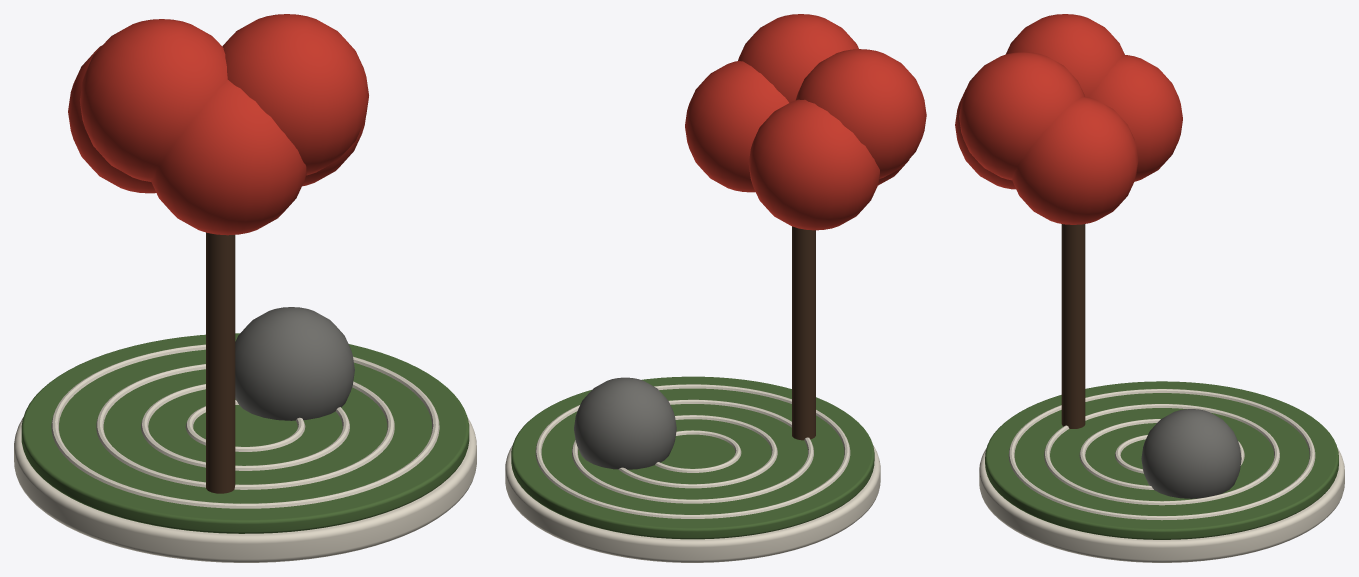
The model's file is theme_14.glb.
3 views of the same model, side by side, from view 1: azimuth 30°, elevation 25°; view 2: azimuth 150°, elevation 25°; view 3: azimuth 270°, elevation 25° (orthographic). The views are drawn at different scales.
Parts seen in each view (by area): view 1: theme_14; view 2: theme_14; view 3: theme_14.
Boxes of the visible parts, x1=… form: theme_14: x1=14, y1=14, x2=476, y2=562; theme_14: x1=505, y1=14, x2=926, y2=562; theme_14: x1=955, y1=14, x2=1344, y2=562.
Size of the model in its own units: 1.29 by 1.54 by 1.32.
